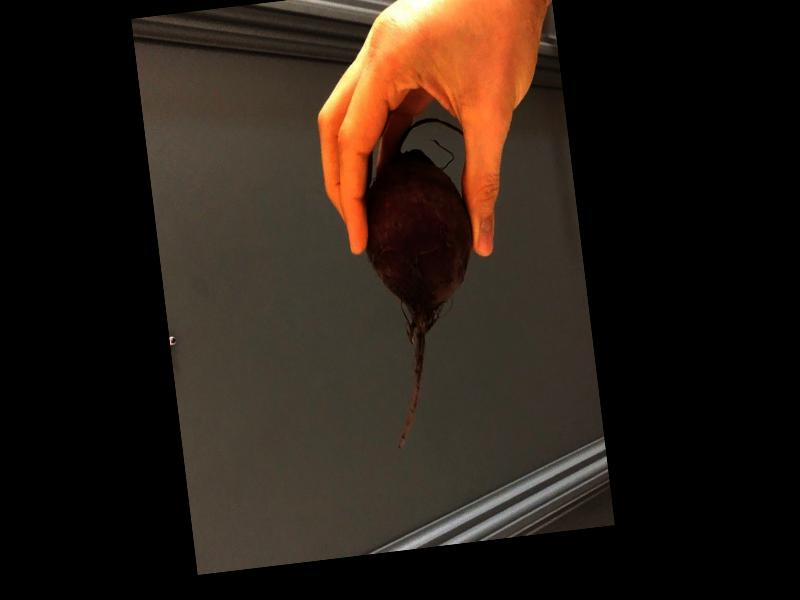Beet: (354, 116, 498, 455)
